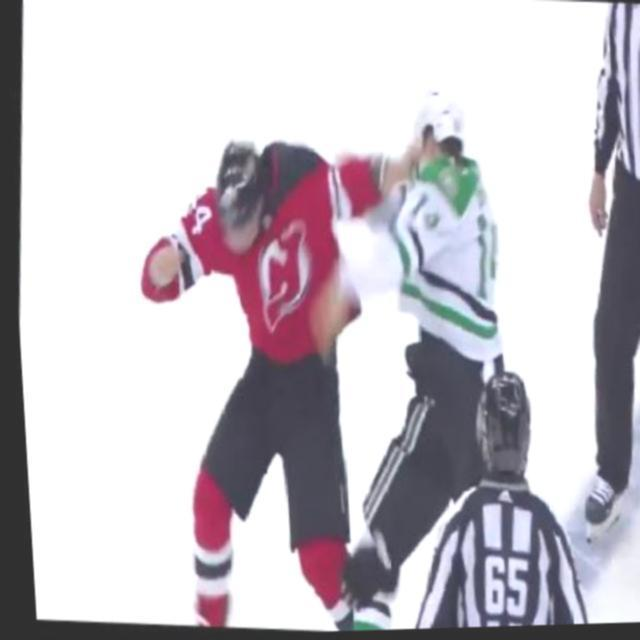fight: (114, 60, 523, 510)
